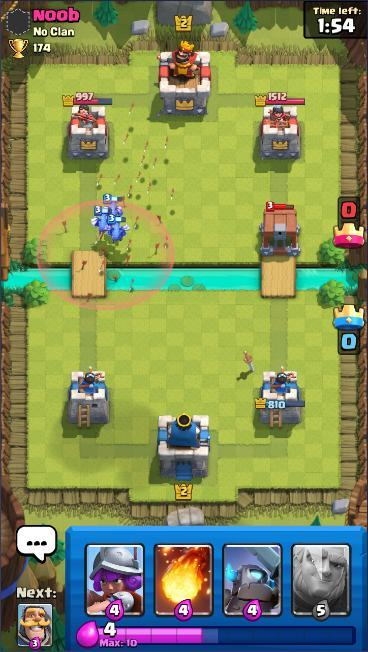ally_minion: (105, 213, 131, 245), (101, 192, 125, 226), (90, 204, 116, 235)
enemy_goblin_cage: (256, 200, 304, 258)
